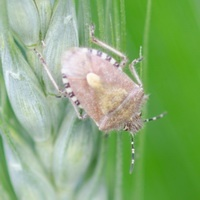insect: (34, 37, 146, 171)
